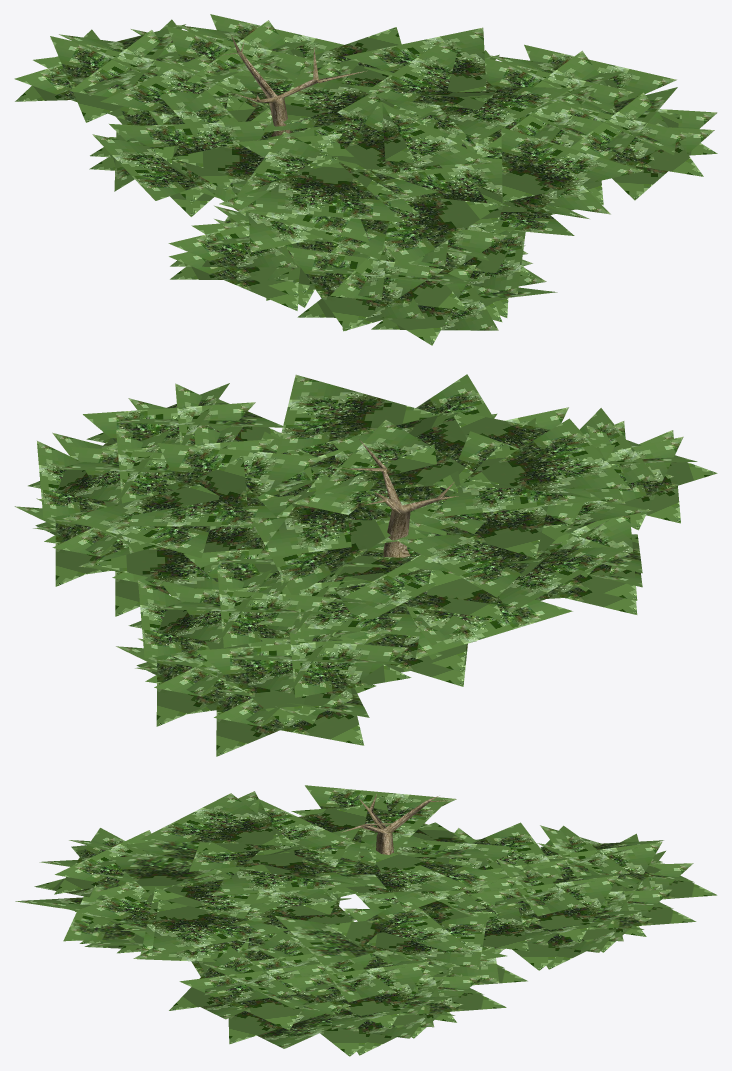
File: flora-trees-baobab.glb
The picture shows the model from 3 angles, top to bottom: view 1: azimuth 30°, elevation 25°; view 2: azimuth 150°, elevation 25°; view 3: azimuth 270°, elevation 25°; orthographic projection. The views are drawn at different scales.
Parts seen in each view (by area): view 1: Object69-Pivot, Cylinder41Mesh; view 2: Object69-Pivot, Cylinder41Mesh; view 3: Object69-Pivot, Cylinder41Mesh.
Part boxes in pixels (x1,y1,x2,y2): Object69-Pivot: [14, 14, 717, 345]; Cylinder41Mesh: [215, 35, 367, 136]; Object69-Pivot: [14, 374, 717, 756]; Cylinder41Mesh: [340, 439, 458, 557]; Object69-Pivot: [15, 785, 717, 1056]; Cylinder41Mesh: [341, 794, 451, 854].
Size of the model in its own units: 33.32 by 9.13 by 42.75.
2 materials, 2 textured.
